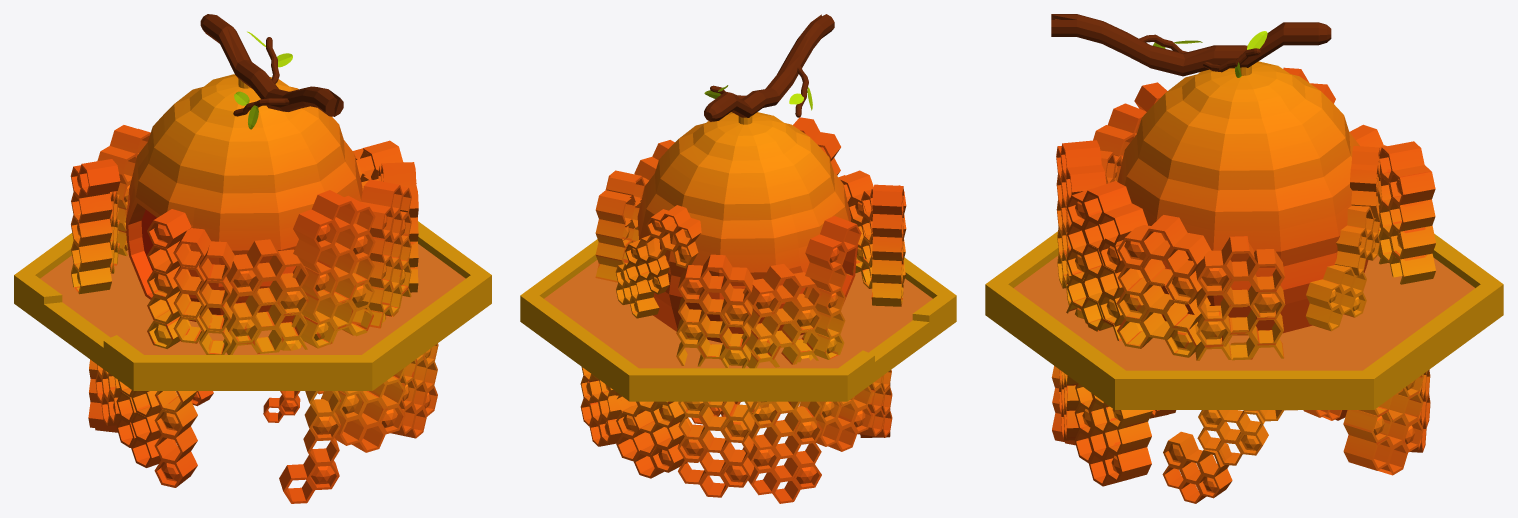
The model's file is BeeHive.fbx.
3 renders of one model, left to right at view 1: azimuth 30°, elevation 25°; view 2: azimuth 150°, elevation 25°; view 3: azimuth 270°, elevation 25°, orthographic. The views are drawn at different scales.
Parts seen in each view (by area): view 1: Sphere.008, Cylinder.018, Sphere.006, Sphere.014, Cylinder.013, Sphere.013; view 2: Cylinder.018, Sphere.008, Sphere.006, Sphere.014, Sphere.009, Cylinder.013; view 3: Cylinder.018, Sphere.008, Sphere.006, Sphere.014, Sphere.009, Cylinder.013, Sphere.012.
Part boxes in pixels (x1,y1,x2,y2): Sphere.008: (70, 125, 418, 354); Cylinder.018: (14, 221, 491, 390); Sphere.006: (125, 74, 362, 322); Sphere.014: (88, 343, 438, 503); Cylinder.013: (200, 14, 343, 116); Sphere.013: (191, 391, 323, 422); Cylinder.018: (520, 239, 956, 401); Sphere.008: (595, 117, 906, 368); Sphere.006: (637, 112, 858, 342); Sphere.014: (580, 367, 892, 503); Sphere.009: (615, 205, 701, 318); Cylinder.013: (704, 14, 834, 121); Cylinder.018: (985, 231, 1503, 409); Sphere.008: (1056, 67, 1435, 360); Sphere.006: (1117, 61, 1368, 335); Sphere.014: (1051, 366, 1430, 486); Sphere.009: (1306, 146, 1382, 331); Cylinder.013: (1051, 14, 1331, 76); Sphere.012: (1162, 410, 1297, 503).
Bounding box in the file's own units: 4223 × 4609 × 4876.
